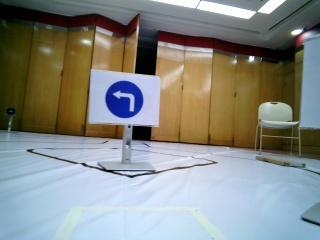left: (89, 70, 157, 123)
